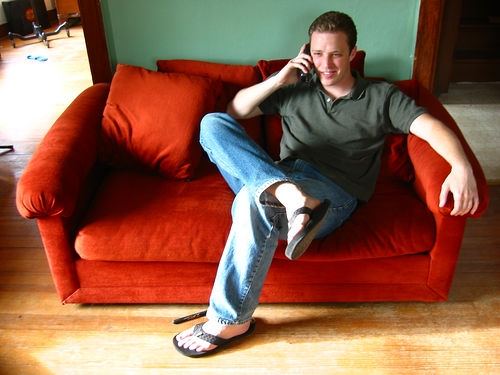phone: (294, 42, 315, 83)
talk: (286, 39, 348, 90)
